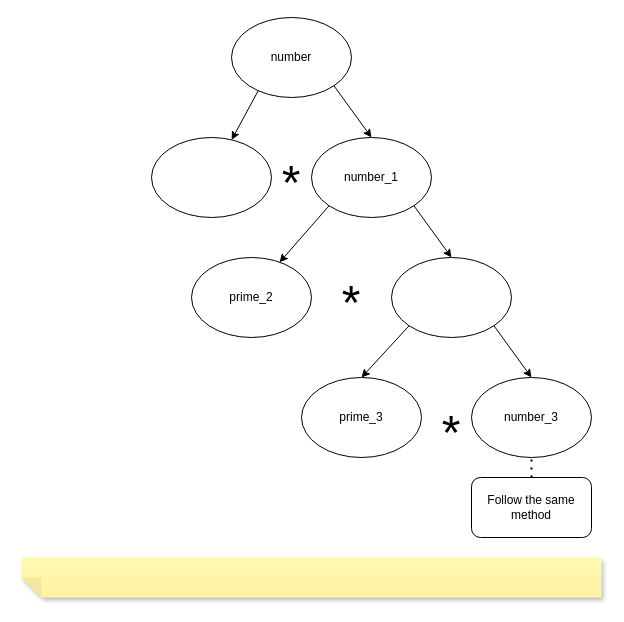
The diagram is 624 pixels wide and 622 high, and some of its shapes have lost their labels. The centre of each missing label's shape, as x and y in pixels:
"number = prime_1 * prime_2 * prime_3 * ...*prime_n" belongs at point 312,578.
"number_2" belongs at point 451,297.
"prime_1" belongs at point 211,177.
